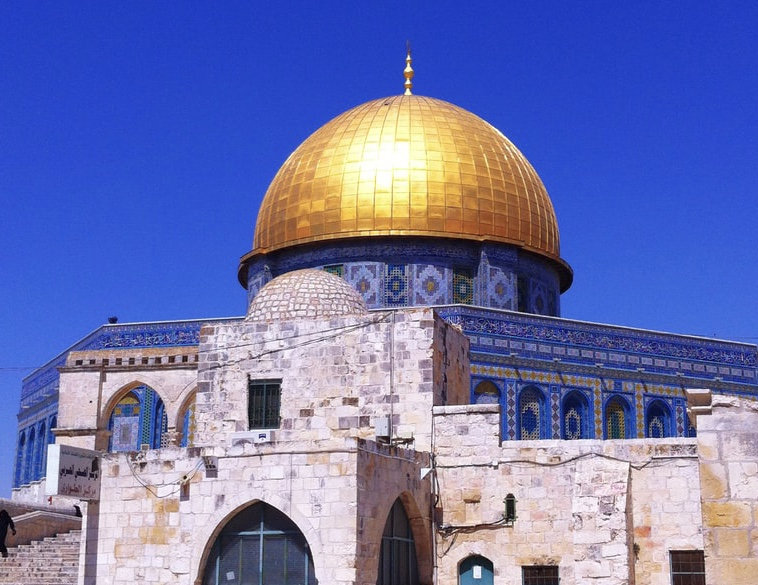Mosque: (33, 63, 715, 566)
